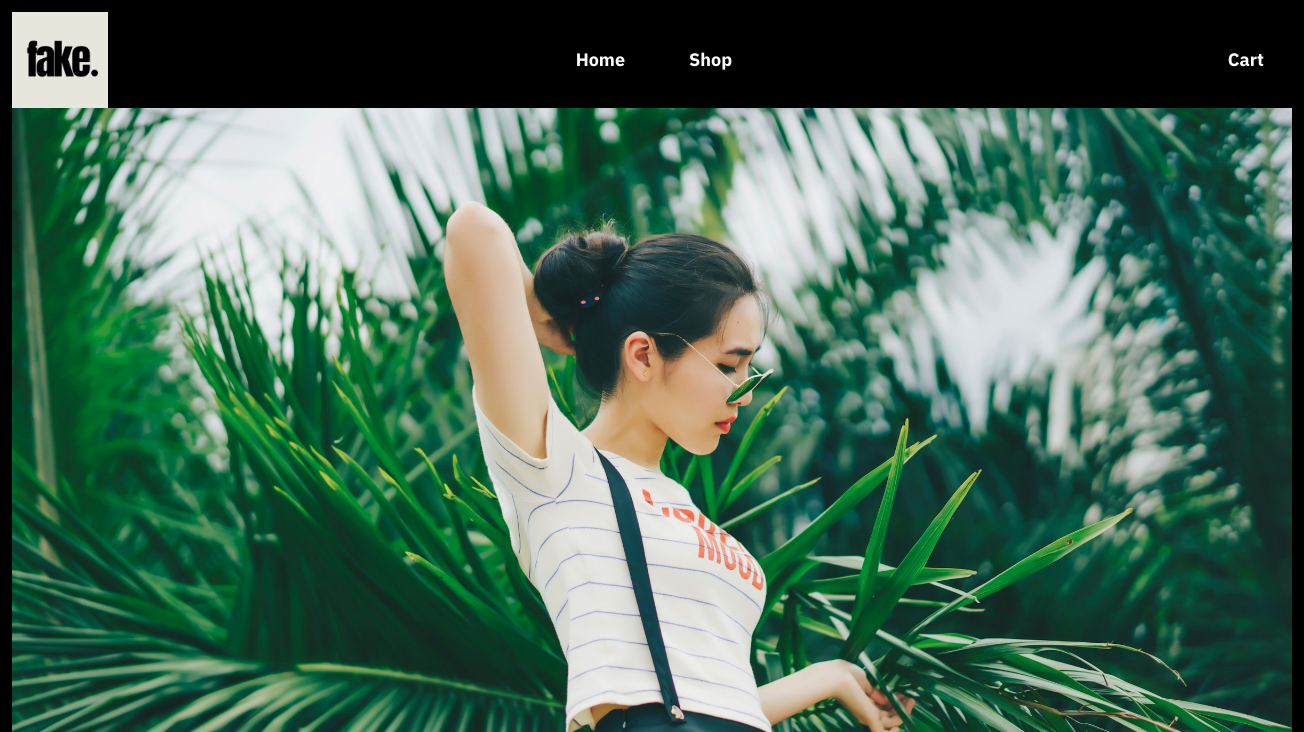
shows cart when cart button is clicked
Click the button "Cart".
click(1246, 60)  # box [1200,12,1292,108]
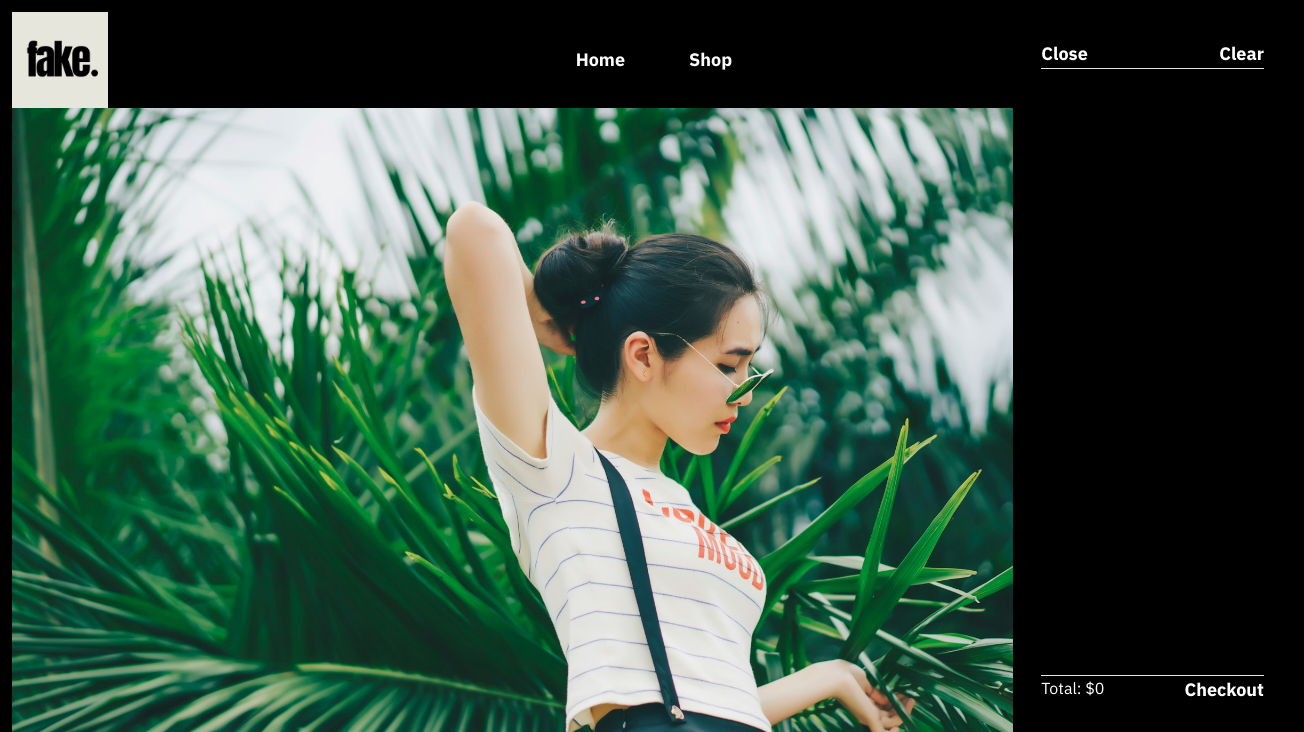
Result: the element named "cart" is shown at [1013,12,1292,731]
